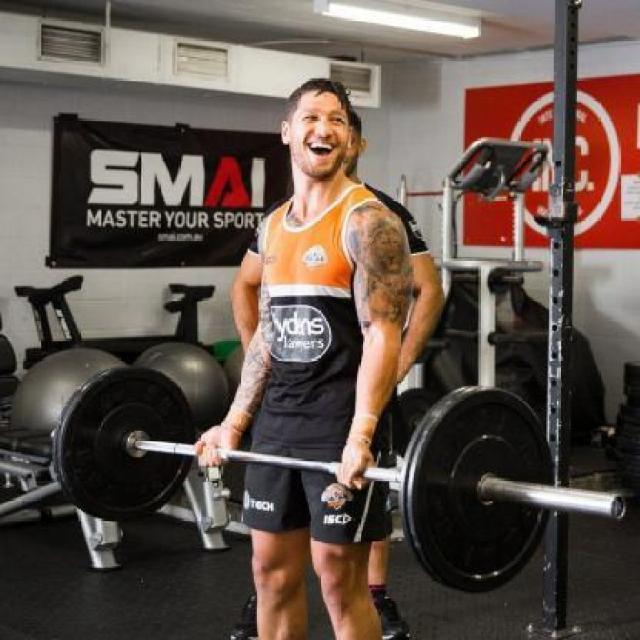barbell: (397, 382, 574, 600), (45, 350, 200, 527)
